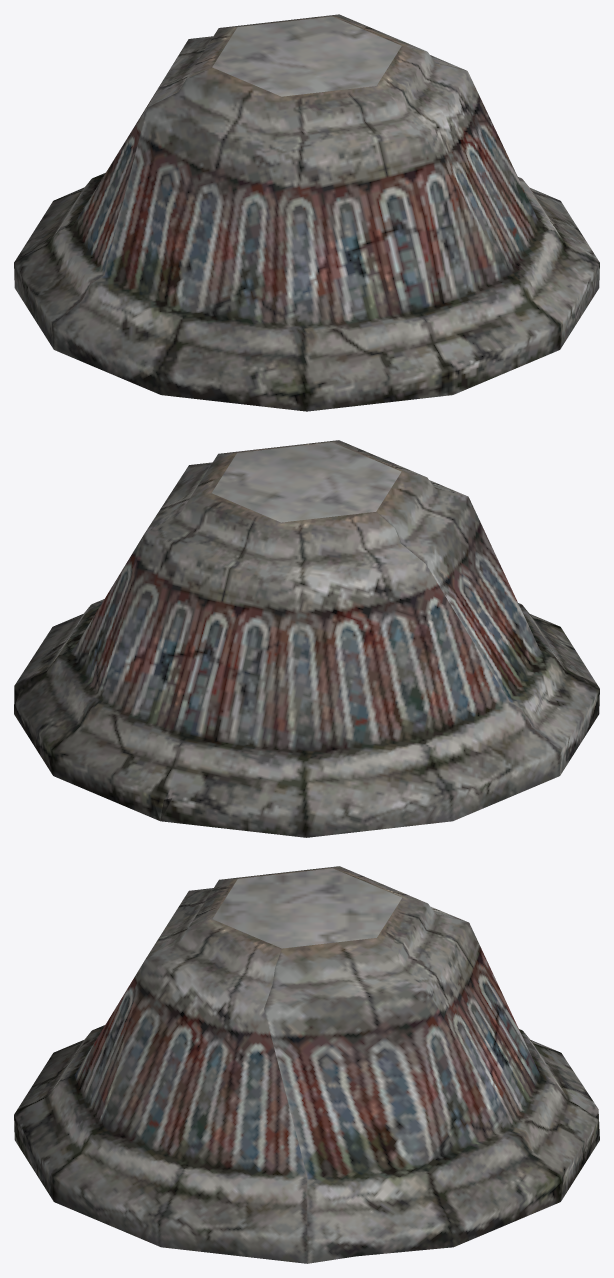
The model's file is SM_EN_2010_shizhuzi02.FBX.
3 views of the same model, one above another, from view 1: azimuth 30°, elevation 25°; view 2: azimuth 150°, elevation 25°; view 3: azimuth 270°, elevation 25° (orthographic).
Parts seen in each view (by area): view 1: SM_EN_2010_shizhuzi02; view 2: SM_EN_2010_shizhuzi02; view 3: SM_EN_2010_shizhuzi02.
Boxes of the visible parts, left/top/right/bottom form: SM_EN_2010_shizhuzi02: left=14, top=14, right=599, bottom=411; SM_EN_2010_shizhuzi02: left=14, top=440, right=599, bottom=837; SM_EN_2010_shizhuzi02: left=14, top=866, right=599, bottom=1263.
Size of the model in its own units: 101 by 44.16 by 101.
